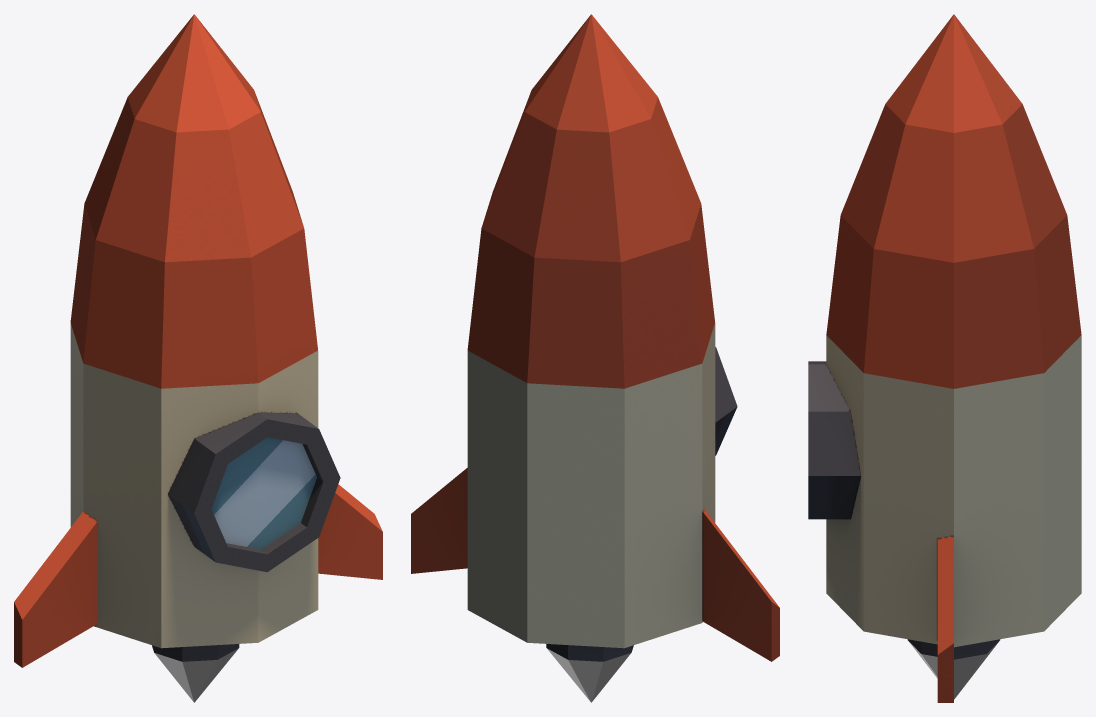
File: PUSHILIN_rocket_ship.gltf
3 views of the same model, side by side, from view 1: azimuth 30°, elevation 25°; view 2: azimuth 150°, elevation 25°; view 3: azimuth 270°, elevation 25° (orthographic).
Visible parts, largest first — view 1: node-0; view 2: node-0; view 3: node-0.
Boxes of the visible parts, left/top/right/bottom form: node-0: left=14, top=14, right=382, bottom=702; node-0: left=411, top=14, right=779, bottom=702; node-0: left=808, top=14, right=1081, bottom=702.
Bounding box in the file's own units: 1.47 × 2.69 × 0.9705.
Materials: 1 (1 with a texture image).
